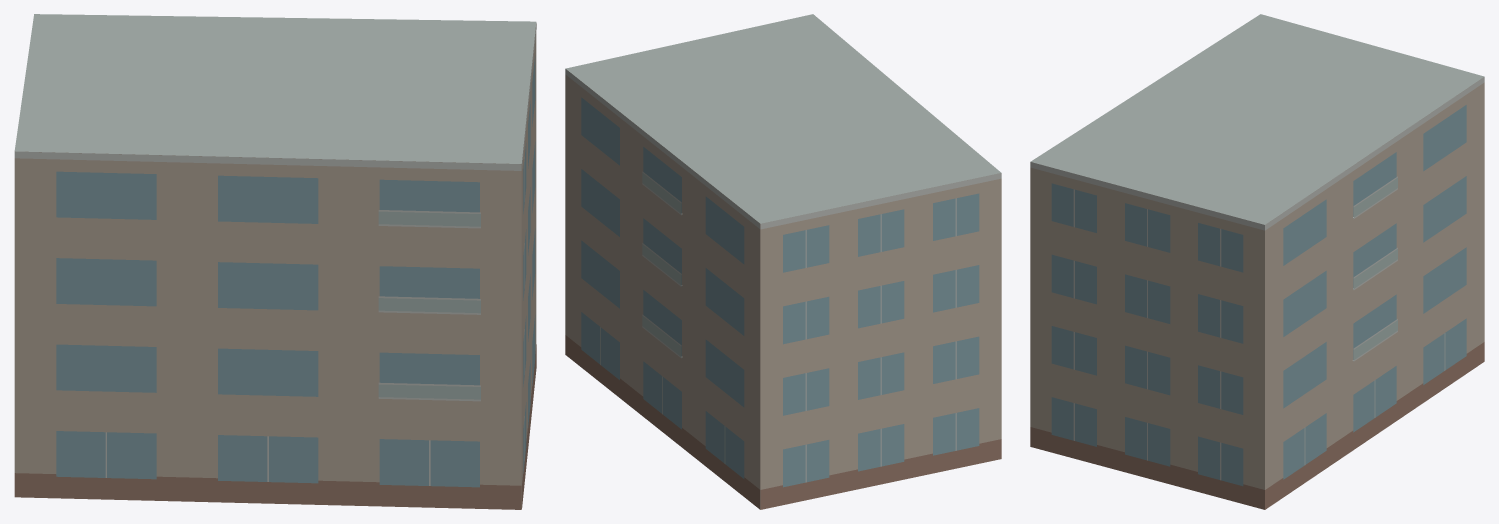
The model's file is survey-upis-33014069.glb.
3 views of the same model, side by side, from view 1: azimuth 30°, elevation 25°; view 2: azimuth 150°, elevation 25°; view 3: azimuth 270°, elevation 25° (orthographic). The views are drawn at different scales.
Visible parts, largest first — view 1: survey-upis-33014069.tmp; view 2: survey-upis-33014069.tmp; view 3: survey-upis-33014069.tmp.
Boxes of the visible parts, x1,y1,x2,y2 form: survey-upis-33014069.tmp: [14, 14, 536, 509]; survey-upis-33014069.tmp: [565, 14, 1001, 509]; survey-upis-33014069.tmp: [1030, 14, 1484, 509].
Bounding box in the file's own units: 19.38 × 12.2 × 17.64.
